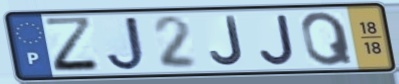2: (151, 14, 201, 71)
J: (104, 15, 148, 73), (258, 13, 298, 67), (208, 14, 247, 68)
Q: (299, 10, 357, 68)
Z: (41, 15, 104, 74)
